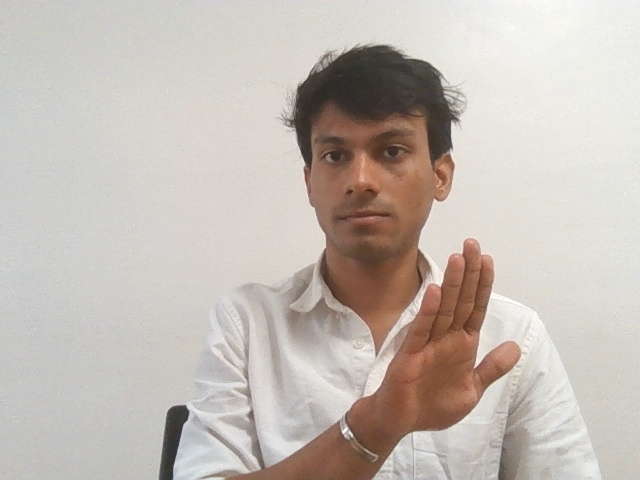Hello: (379, 234, 523, 440)
